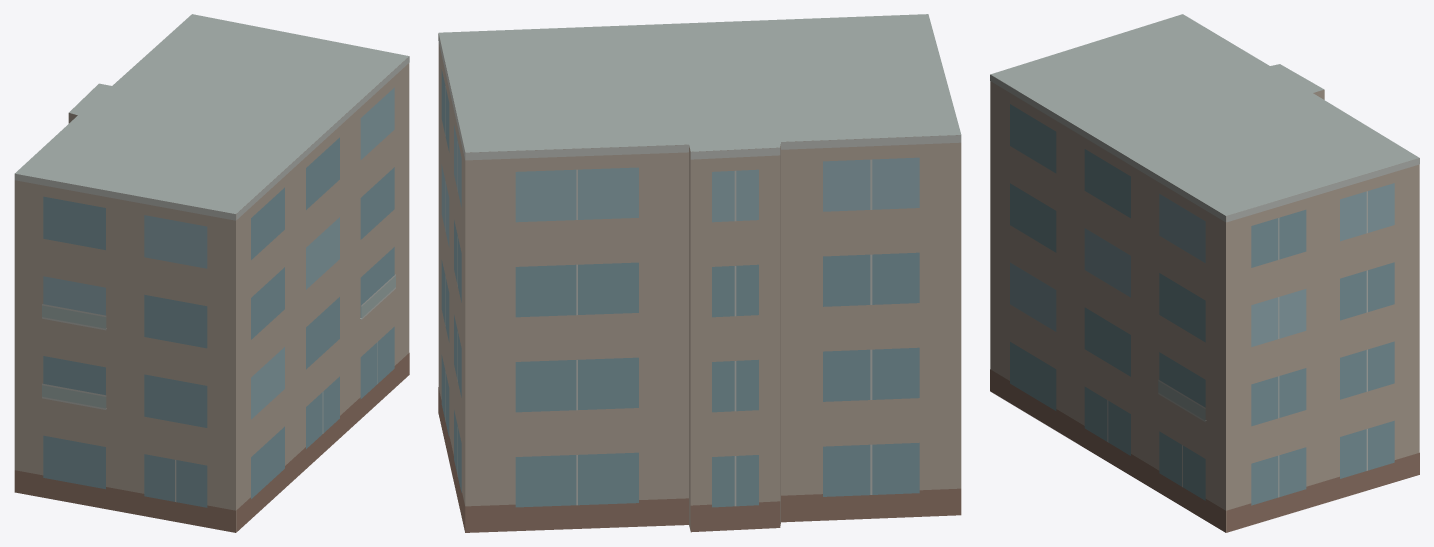
The model's file is survey-upis-32628920.glb.
3 views of the same model, side by side, from view 1: azimuth 30°, elevation 25°; view 2: azimuth 150°, elevation 25°; view 3: azimuth 270°, elevation 25° (orthographic). The views are drawn at different scales.
Parts seen in each view (by area): view 1: survey-upis-32628920.tmp; view 2: survey-upis-32628920.tmp; view 3: survey-upis-32628920.tmp.
Boxes of the visible parts, <box> form: survey-upis-32628920.tmp: <box>14,14,409,532</box>; survey-upis-32628920.tmp: <box>438,14,961,532</box>; survey-upis-32628920.tmp: <box>990,14,1419,532</box>.
Size of the model in its own units: 16.24 by 11.87 by 14.59.
